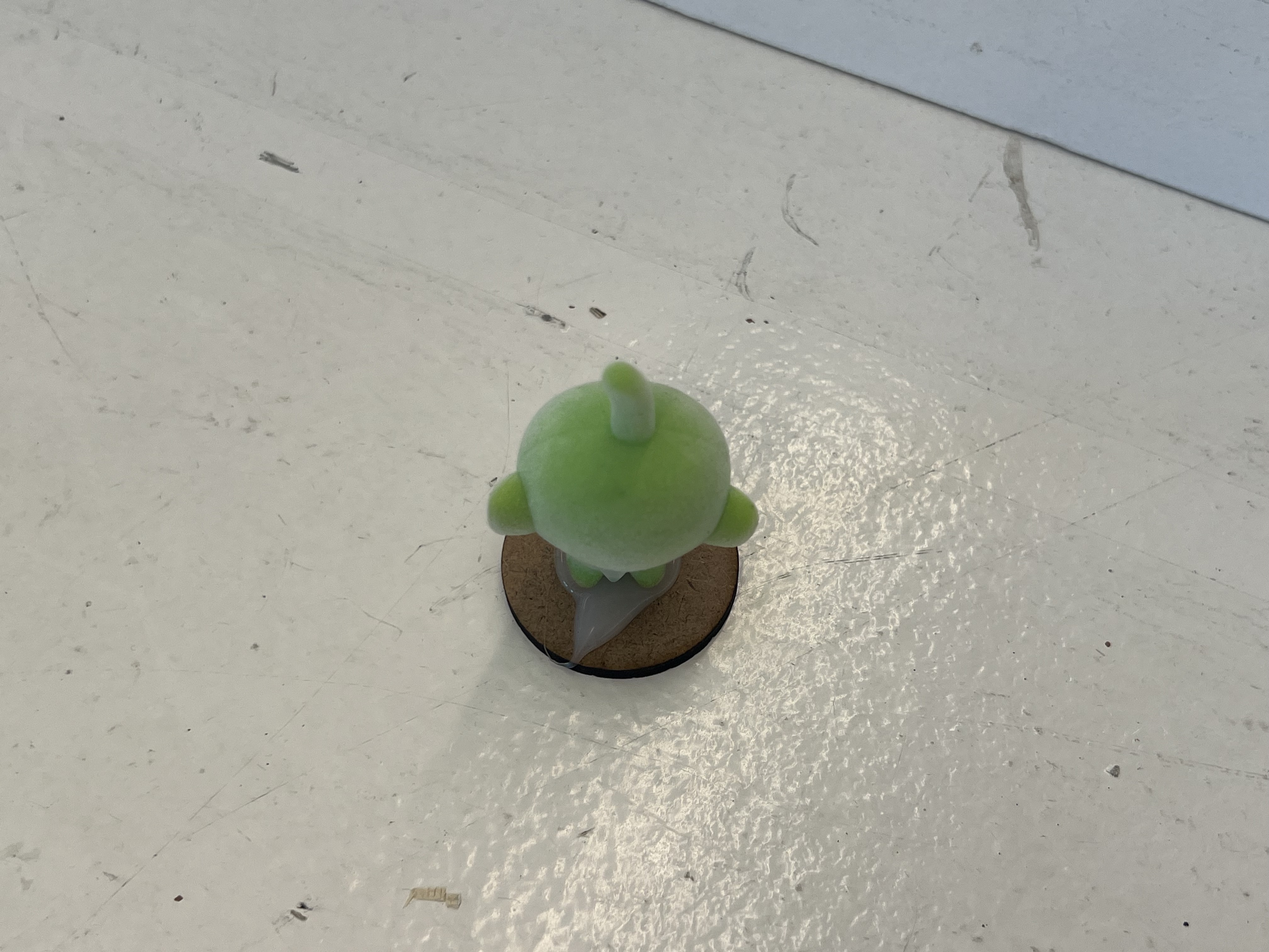teletubby: (488, 360, 758, 588)
